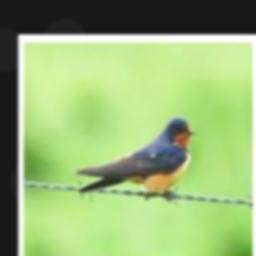Swallow: (76, 116, 195, 194)
